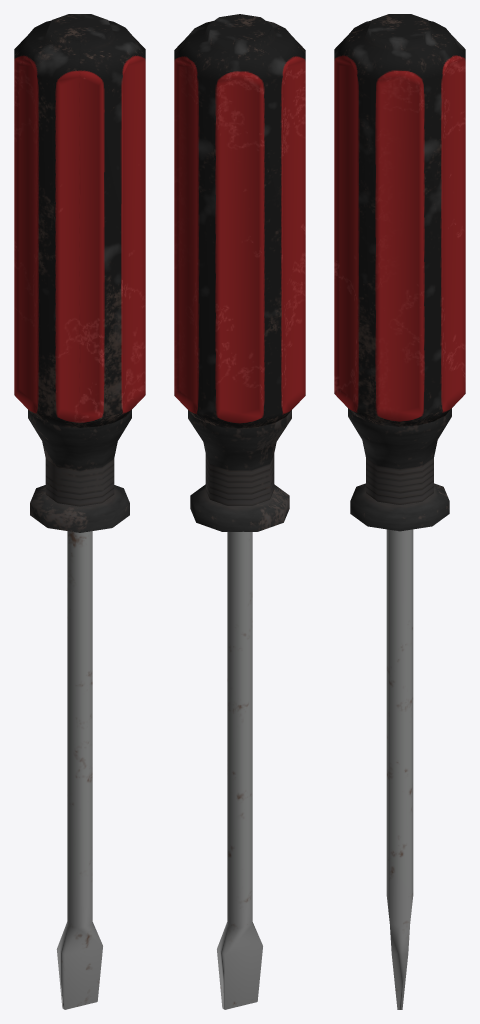
Rendered from flathead_screwdriver.glb.
3 views of the same model, side by side, from view 1: azimuth 30°, elevation 25°; view 2: azimuth 210°, elevation 25°; view 3: azimuth 270°, elevation 25° (orthographic).
Parts seen in each view (by area): view 1: FlatheadScrewdriver; view 2: FlatheadScrewdriver; view 3: FlatheadScrewdriver.
Part boxes in pixels (x1,y1,x2,y2): FlatheadScrewdriver: (14,14,145,1009); FlatheadScrewdriver: (174,14,305,1009); FlatheadScrewdriver: (334,14,465,1009).
Size of the model in its own units: 0.0232 by 0.2 by 0.0244.
1 material, 1 textured.
